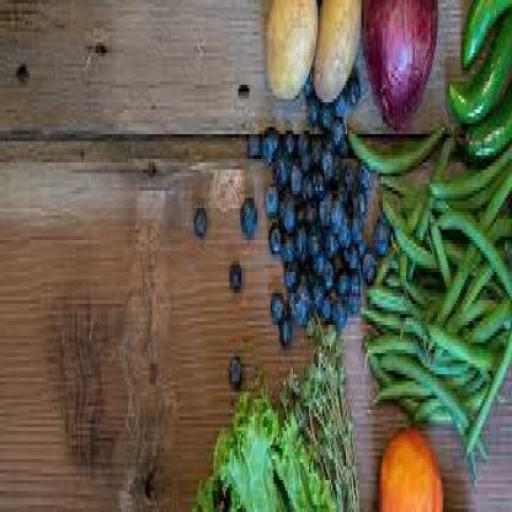biodegradable: (282, 314, 359, 508), (380, 350, 489, 459), (437, 165, 511, 319), (198, 388, 284, 509), (366, 0, 443, 128), (366, 339, 478, 420), (452, 10, 510, 128), (274, 402, 338, 508), (438, 204, 511, 287), (466, 325, 511, 457), (350, 120, 448, 173), (382, 427, 446, 508), (267, 0, 320, 96), (315, 0, 364, 102), (450, 248, 504, 338), (378, 187, 428, 276), (397, 374, 490, 416), (464, 89, 511, 165), (430, 322, 504, 370), (463, 0, 511, 65), (456, 289, 510, 346), (372, 370, 466, 402), (406, 269, 483, 303), (403, 204, 435, 276), (453, 392, 480, 477), (391, 212, 437, 261), (415, 346, 474, 378), (367, 328, 421, 360), (360, 276, 409, 304), (293, 272, 315, 325), (362, 304, 404, 325), (376, 212, 392, 261), (320, 176, 336, 223), (242, 194, 258, 240), (298, 123, 312, 170), (264, 123, 280, 163), (275, 148, 291, 188), (322, 250, 338, 290), (340, 165, 356, 205), (331, 194, 346, 236), (280, 194, 297, 229), (338, 212, 354, 247), (297, 219, 310, 261), (354, 180, 368, 219), (194, 202, 210, 236), (310, 219, 325, 254), (230, 353, 246, 385), (343, 233, 360, 262), (325, 222, 340, 254), (336, 268, 352, 297), (284, 230, 297, 265), (324, 145, 337, 180), (273, 289, 287, 321), (335, 296, 349, 328), (350, 71, 364, 103), (335, 112, 349, 144), (272, 219, 284, 254), (291, 159, 303, 194), (268, 180, 281, 212), (364, 250, 377, 282), (314, 166, 327, 198), (335, 148, 348, 177), (361, 155, 374, 183), (313, 251, 328, 275), (315, 127, 325, 162), (312, 89, 322, 123), (314, 279, 328, 303), (307, 191, 321, 215), (337, 88, 349, 116), (324, 102, 337, 127), (232, 258, 242, 290), (281, 311, 291, 343), (250, 131, 263, 155), (287, 262, 300, 286), (285, 127, 297, 152), (308, 67, 318, 95), (353, 219, 365, 240), (353, 265, 363, 289), (324, 293, 334, 317), (350, 290, 360, 311), (306, 173, 316, 194), (361, 233, 369, 258), (327, 128, 335, 144)
